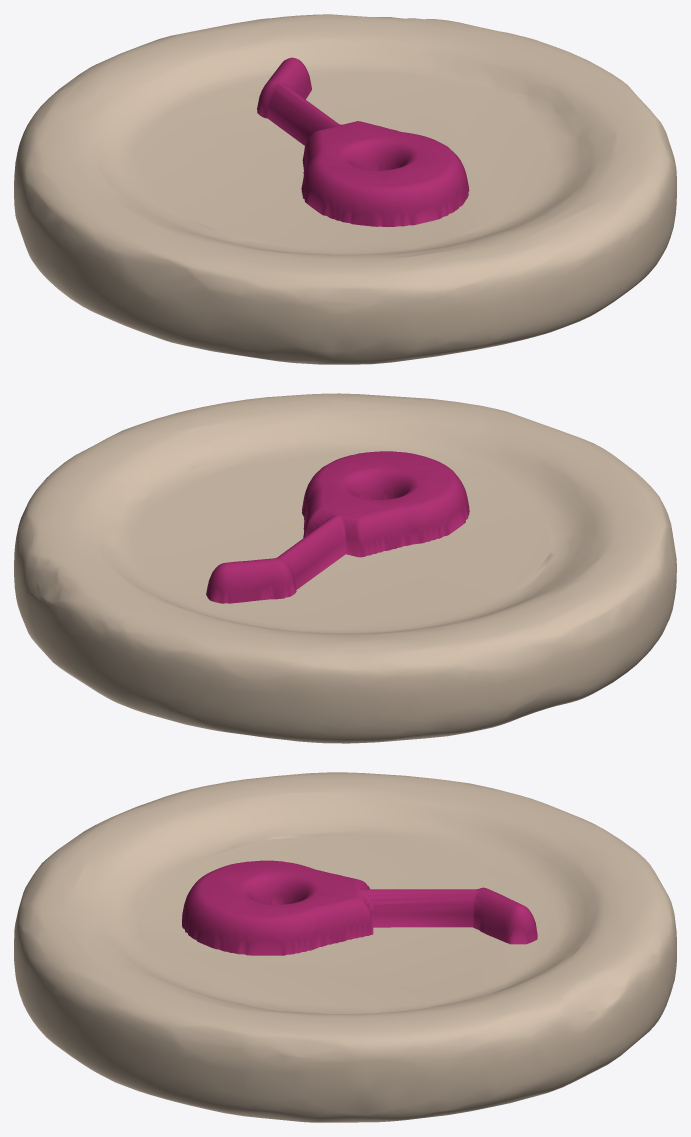
The model's file is token-bard-red-draco.glb.
The picture shows the model from 3 angles, top to bottom: view 1: azimuth 30°, elevation 25°; view 2: azimuth 150°, elevation 25°; view 3: azimuth 270°, elevation 25°; orthographic projection.
Visible parts, largest first — view 1: token_bard_red; view 2: token_bard_red; view 3: token_bard_red.
Part boxes in pixels (x1,y1,x2,y2): token_bard_red: [14, 14, 676, 364]; token_bard_red: [14, 393, 676, 743]; token_bard_red: [14, 772, 676, 1122].
Bounding box in the file's own units: 0.414 × 0.0722 × 0.4142.
